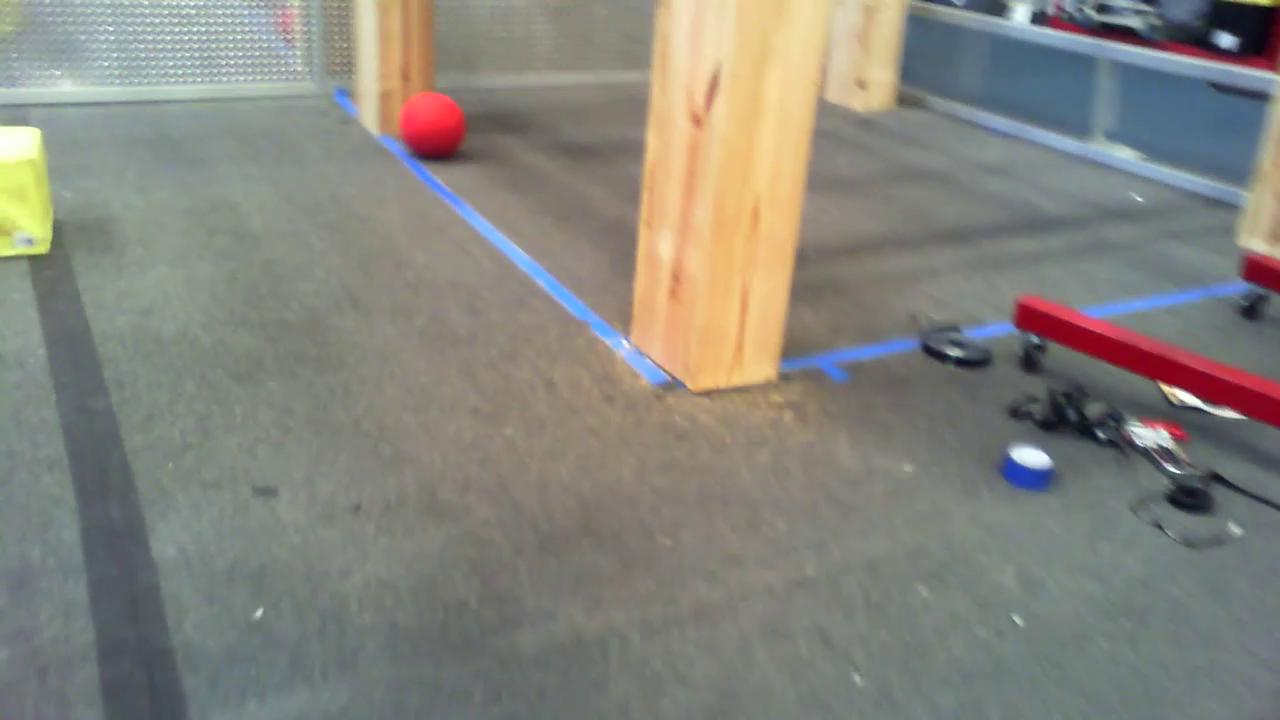Red_Ball: (389, 89, 472, 158)
